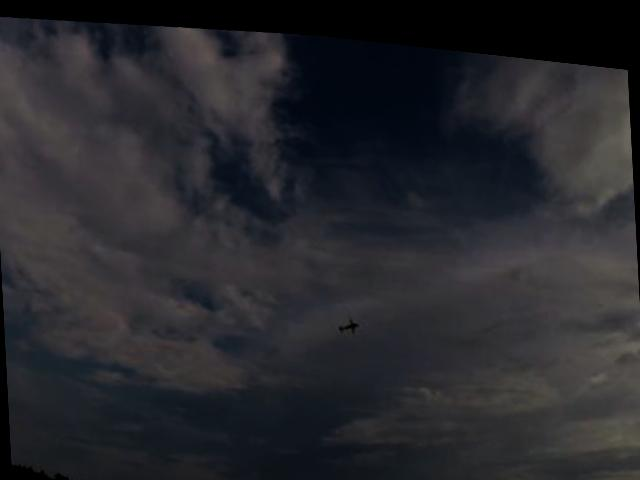uav: (332, 302, 366, 335)
